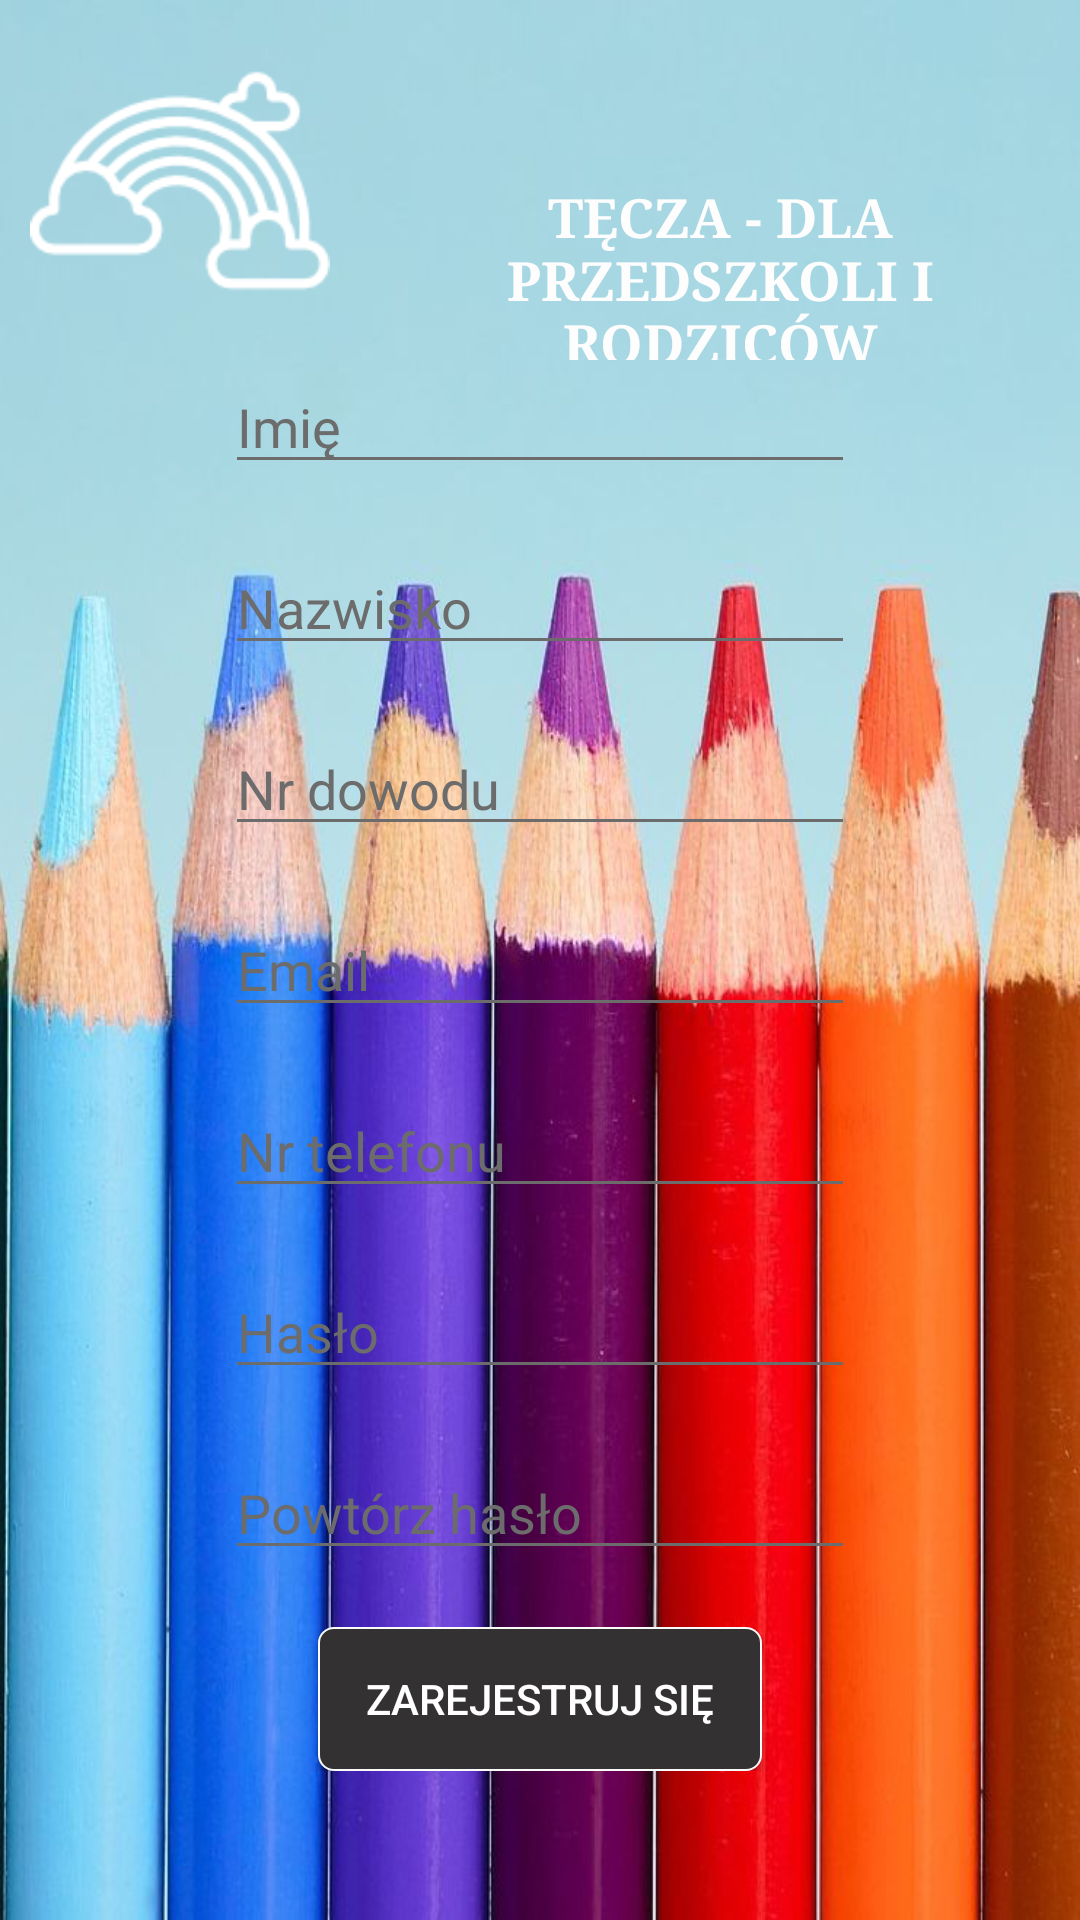

Where icons sit on this 1080×1920 app screen, as (x1, y1, x2, y2):
rainbow: (30, 72, 330, 290)
